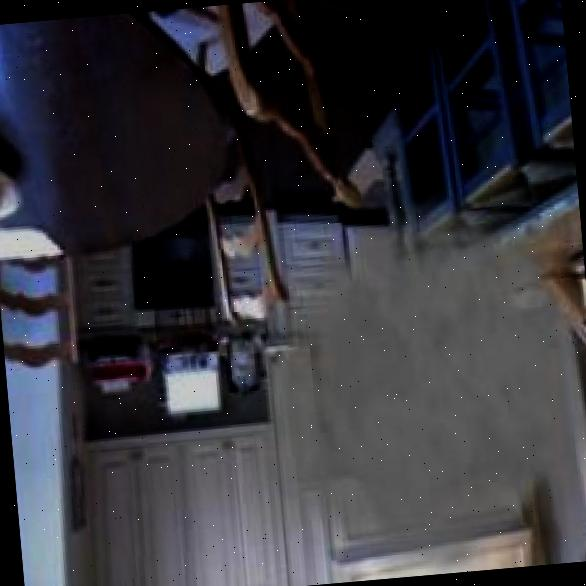smoke: (238, 163, 586, 586)
